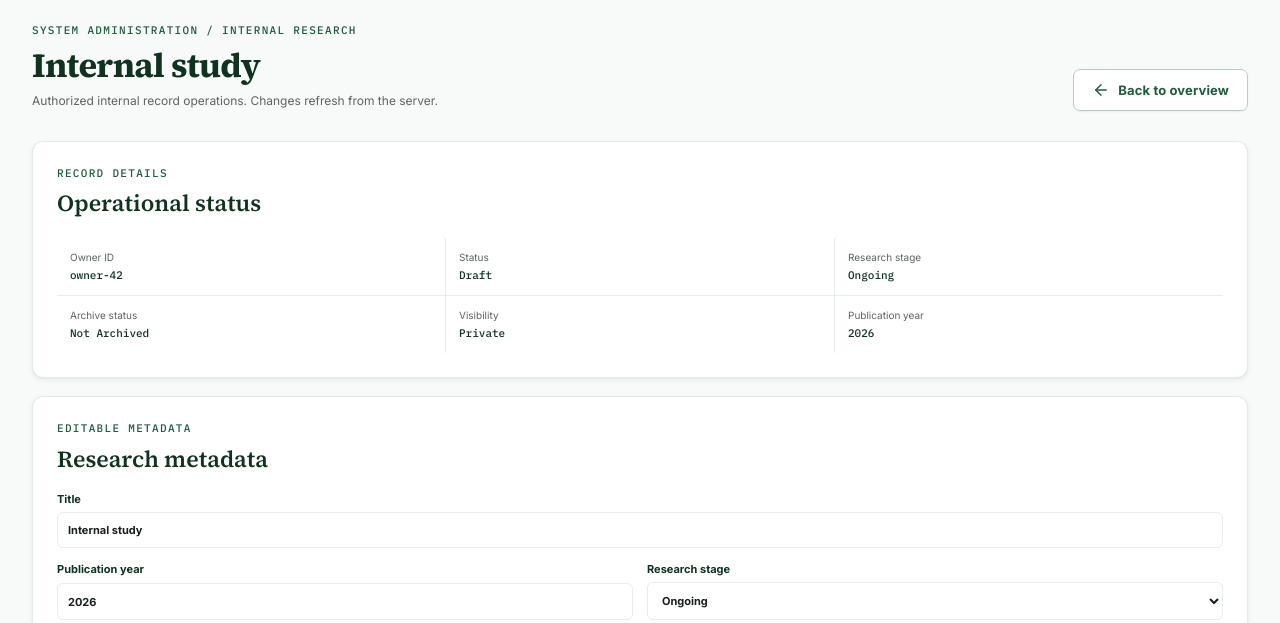
Test: AdminResearchWorkspace › saves editable metadata and refreshes the authoritative record
This screenshot has width=1280, height=623.
Replace the text in the field labelled "Title" with "Saved title" at (640, 530), box [57,512,1223,548]
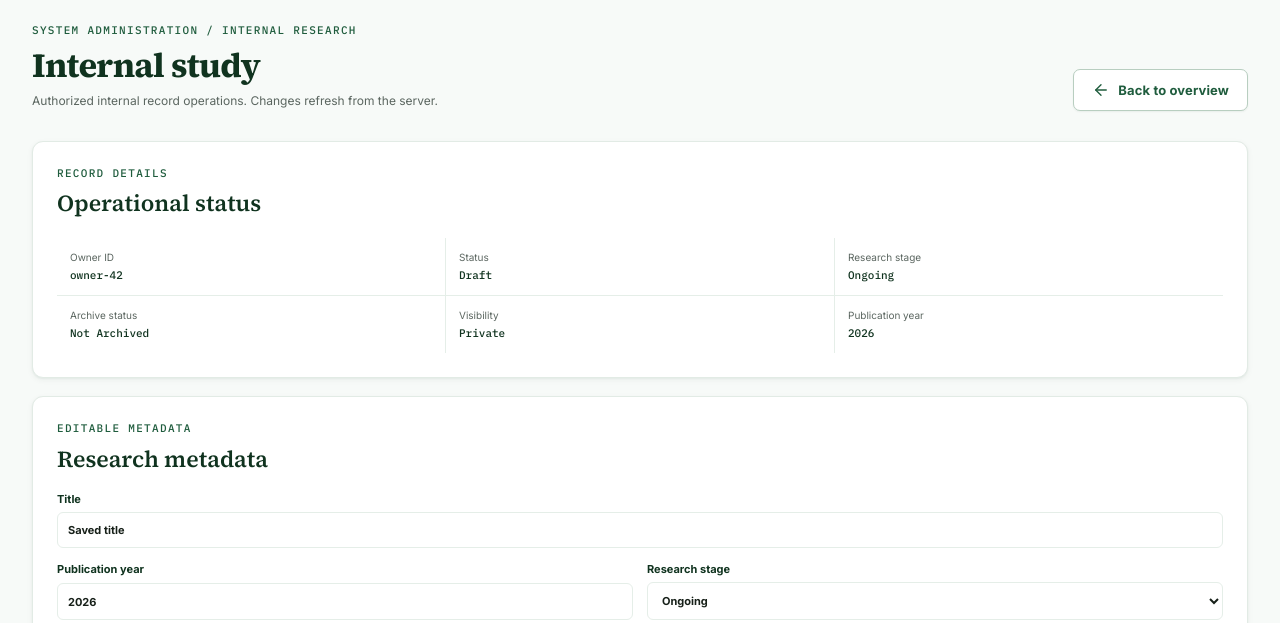
Replace the text in the number field labelled "Publication year" with "2025" at (345, 602), box [57,583,633,620]
(page scrolled)
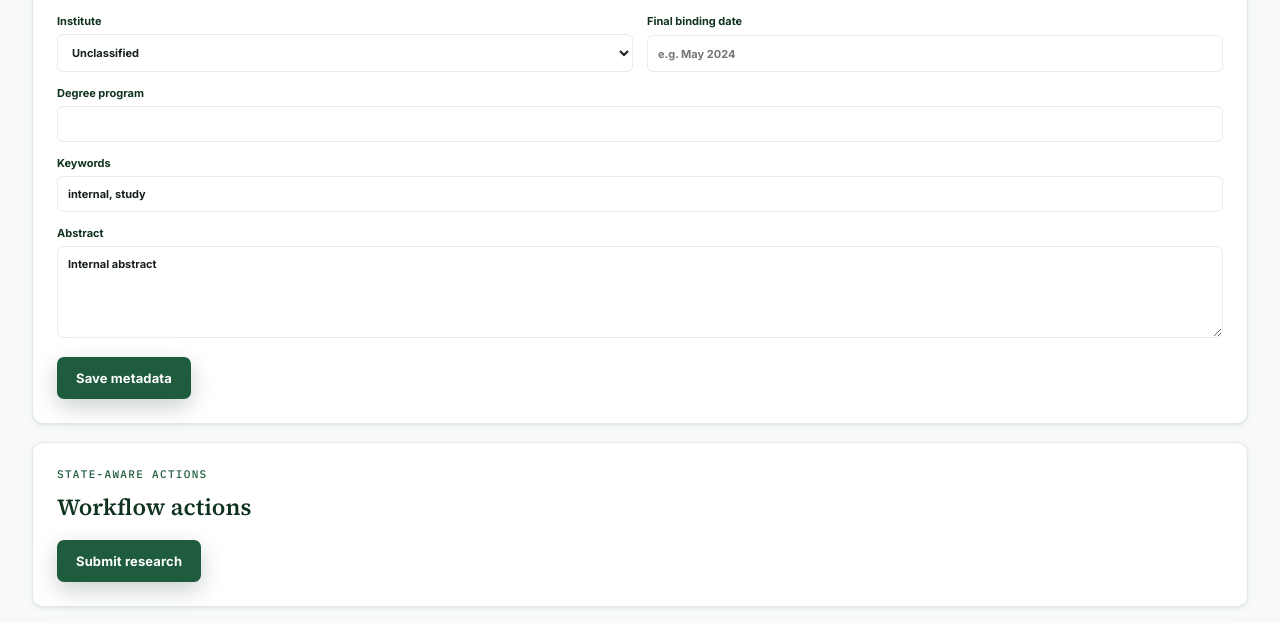
Click the button "Save metadata" at (124, 378), box [57,357,191,399]
(page scrolled)
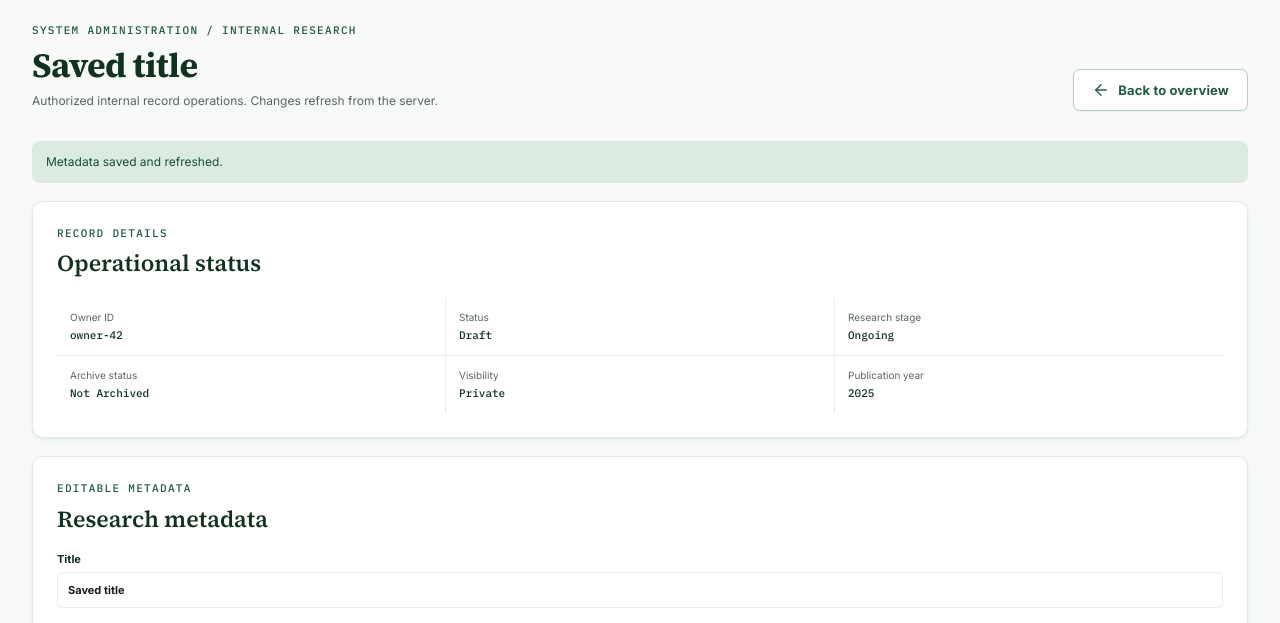
Check: the message reads "Metadata saved and refreshed.", box [46,154,223,169]
